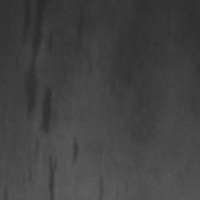inclusion: (14, 0, 48, 129), (36, 81, 63, 140), (69, 4, 94, 47), (43, 151, 64, 197), (64, 134, 84, 167), (93, 170, 111, 200)
